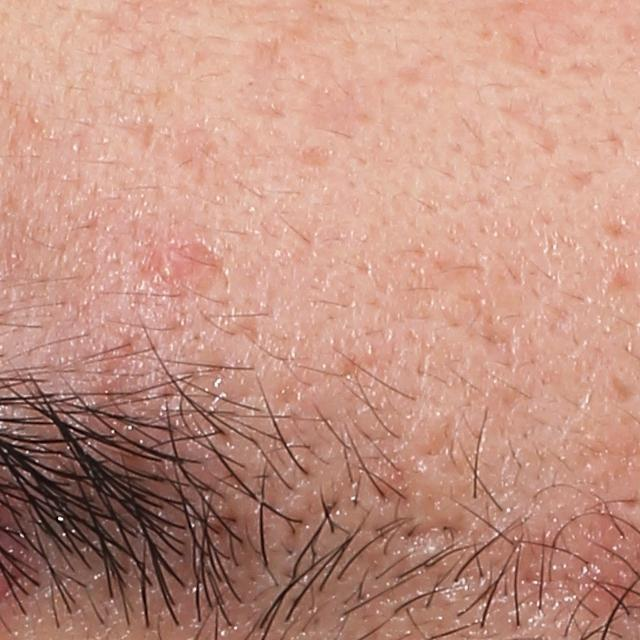atrophic_scar: (488, 16, 572, 82), (414, 416, 472, 481), (498, 96, 558, 152), (245, 38, 298, 83), (100, 117, 157, 156), (294, 143, 342, 171), (603, 371, 638, 404), (604, 265, 638, 296), (597, 219, 638, 244), (559, 61, 606, 77), (565, 168, 595, 193)
